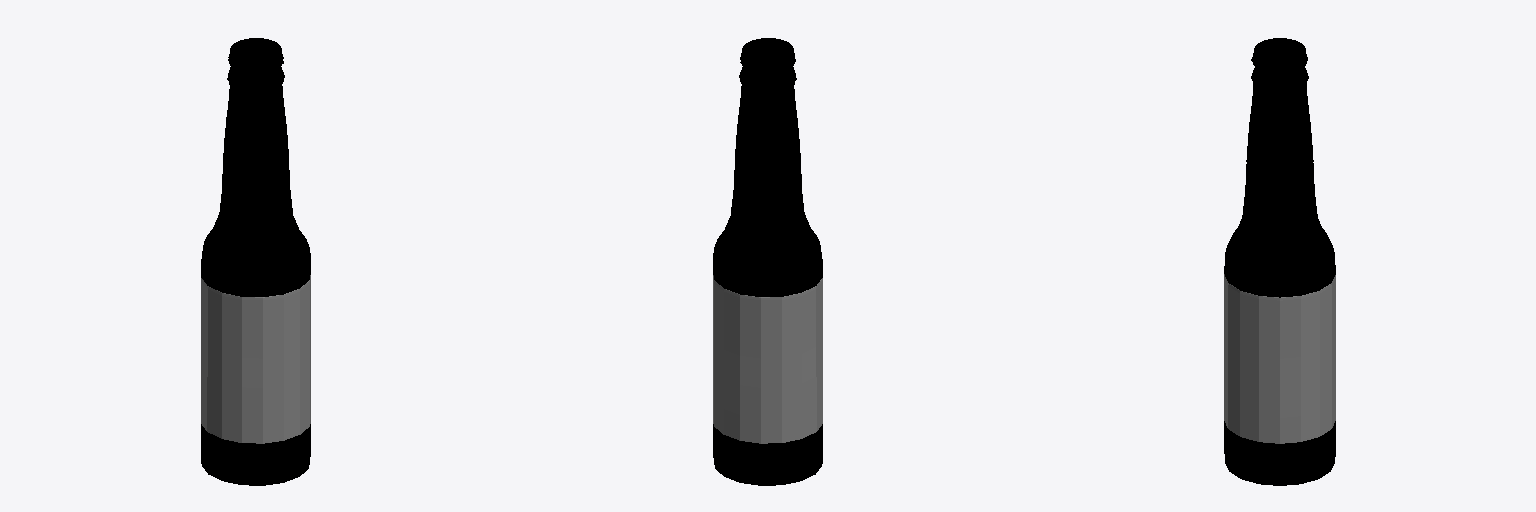
The model's file is coors_bottle.obj.
The picture shows the model from 3 angles: view 1: azimuth 30°, elevation 25°; view 2: azimuth 150°, elevation 25°; view 3: azimuth 270°, elevation 25°; orthographic projection.
Visible parts, largest first — view 1: Coors_Bottle; view 2: Coors_Bottle; view 3: Coors_Bottle.
Boxes of the visible parts, x1=… form: Coors_Bottle: x1=201, y1=38, x2=310, y2=485; Coors_Bottle: x1=713, y1=38, x2=822, y2=485; Coors_Bottle: x1=1224, y1=38, x2=1335, y2=485.
Bounding box in the file's own units: 20.73 × 85.19 × 20.75.